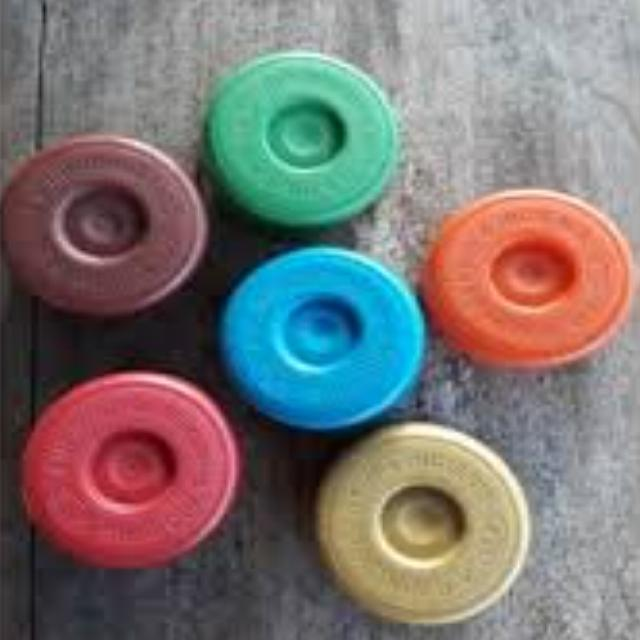TutupGalon: (1, 32, 627, 640)
